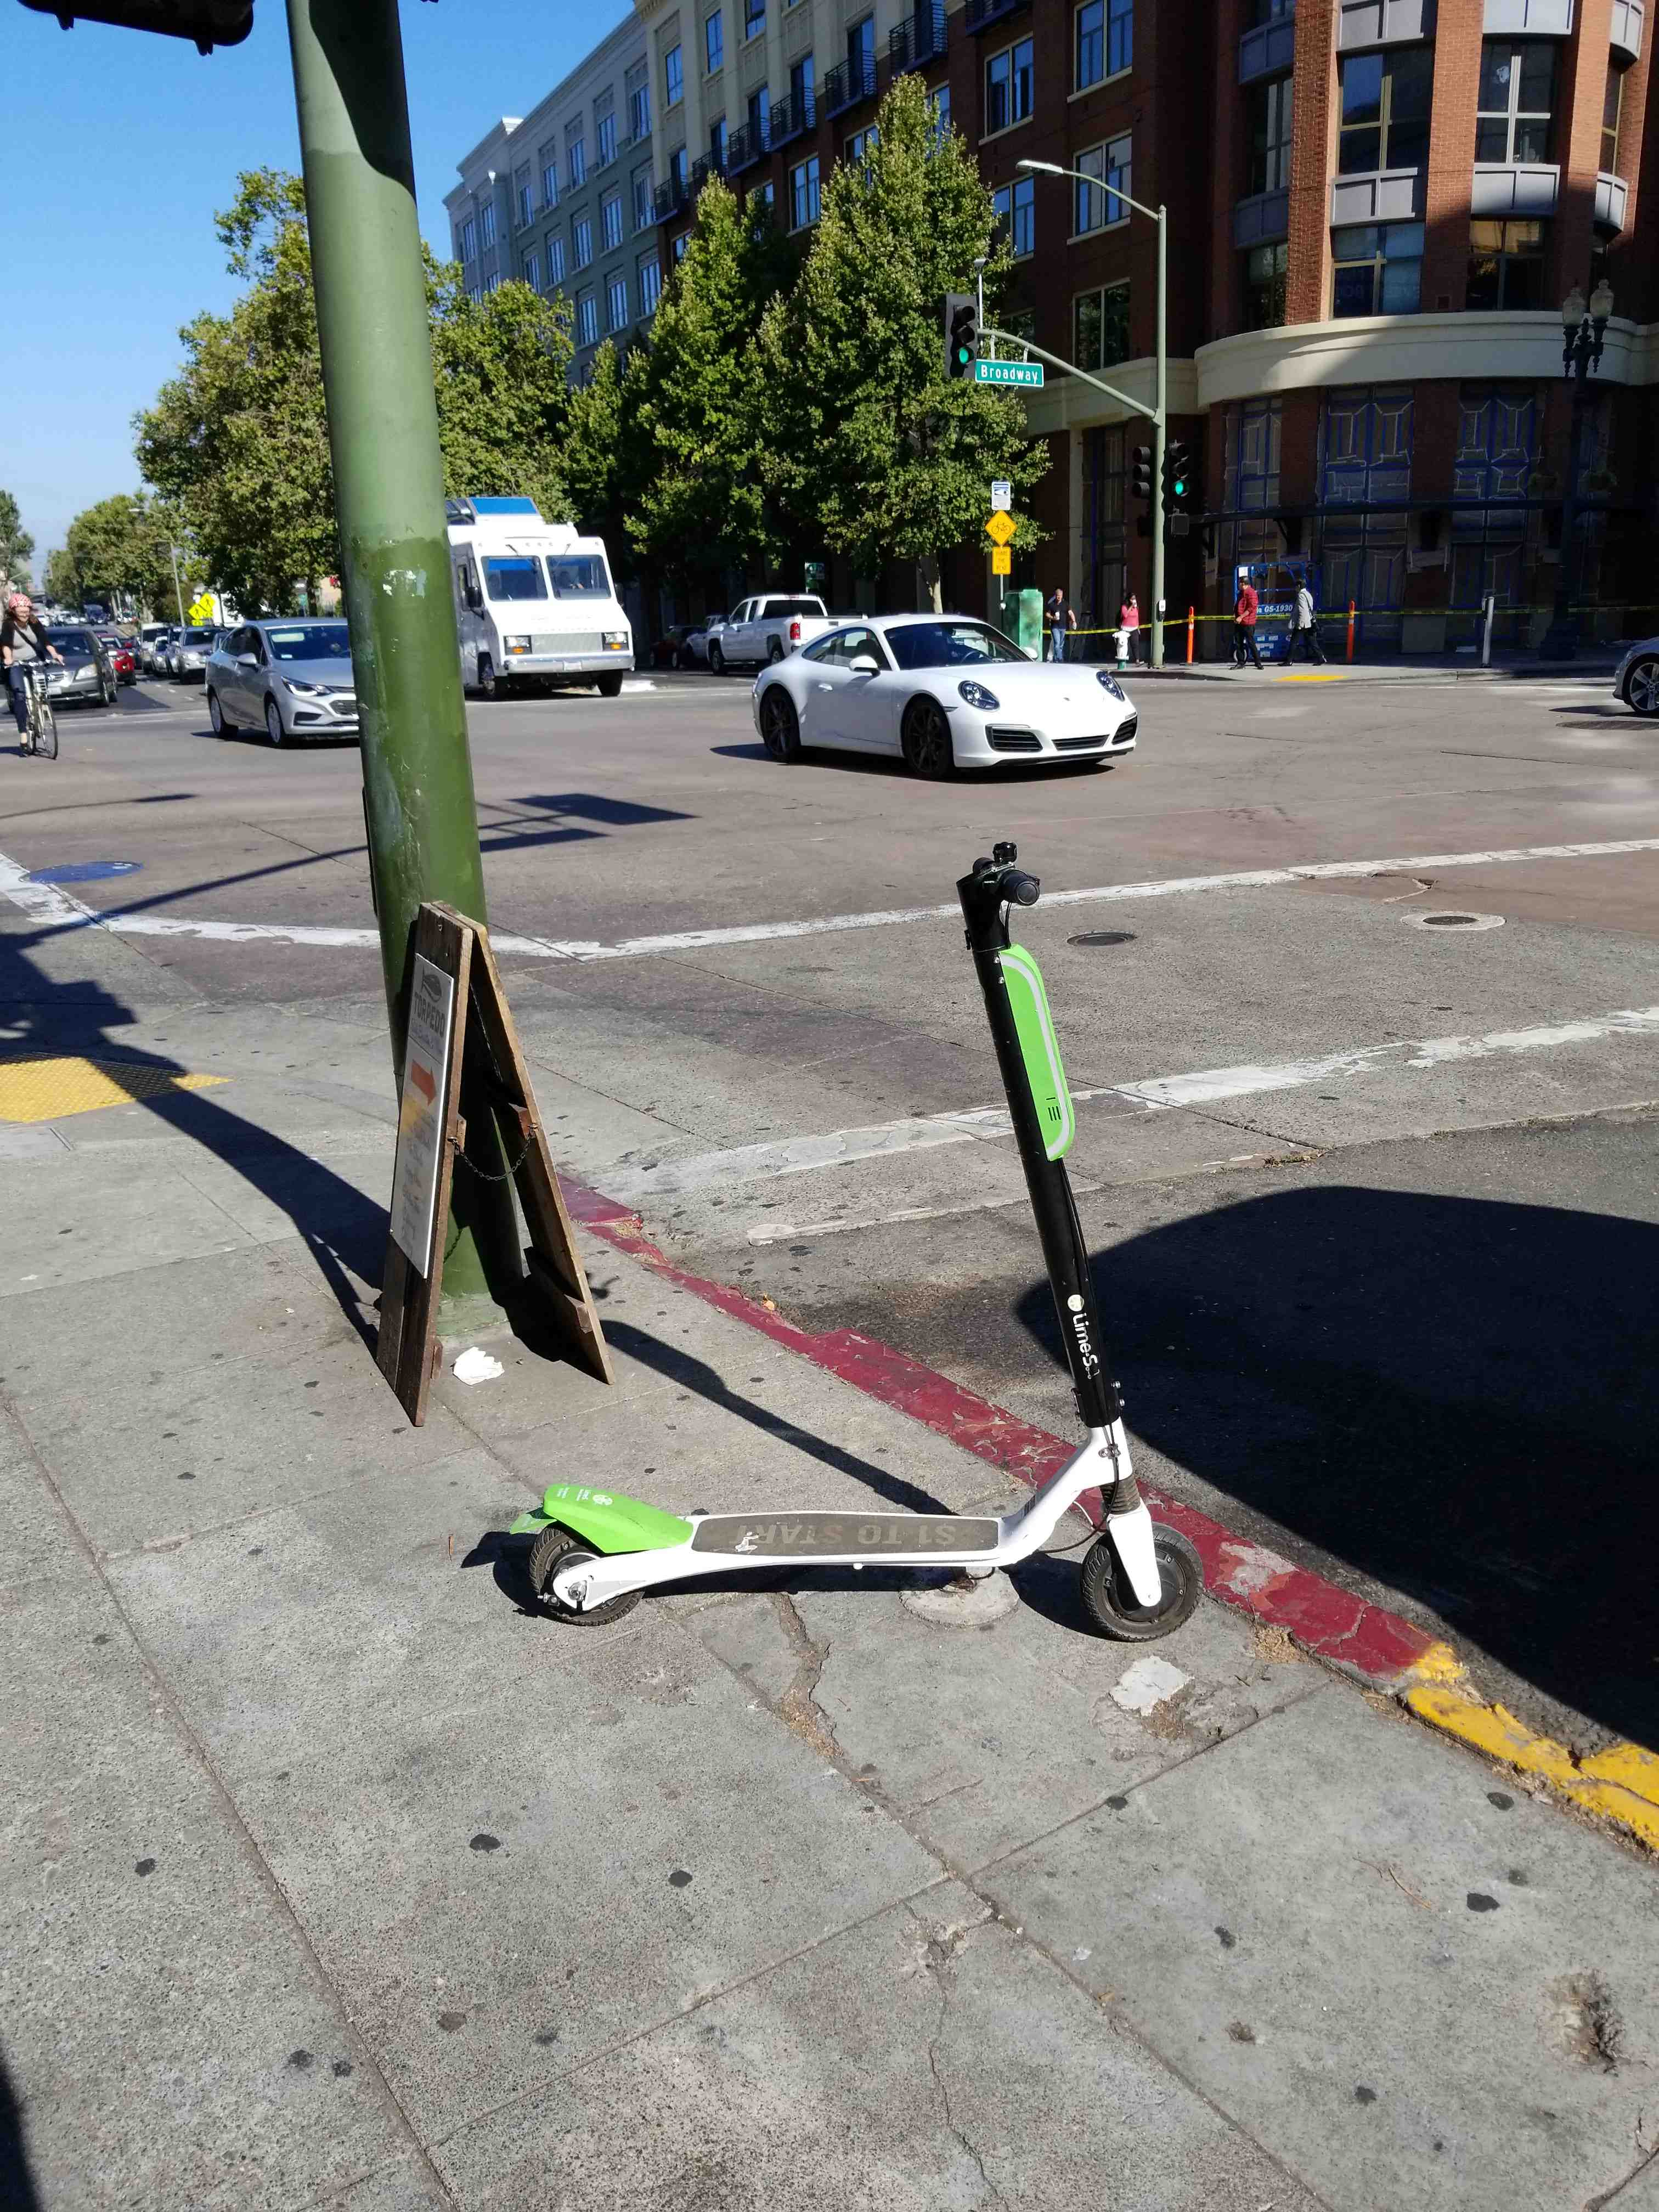scooter: (469, 772, 1208, 1693)
